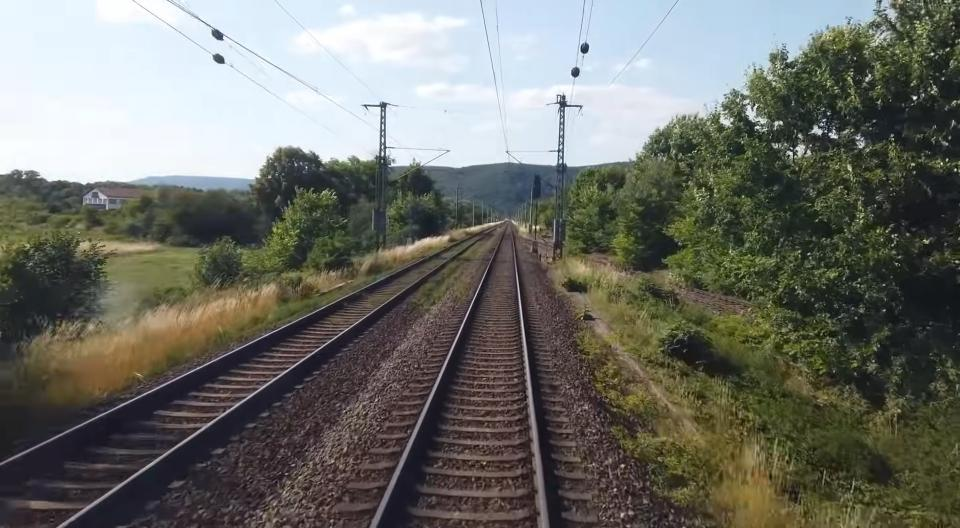Plant: (578, 323, 793, 528), (412, 249, 470, 315)
